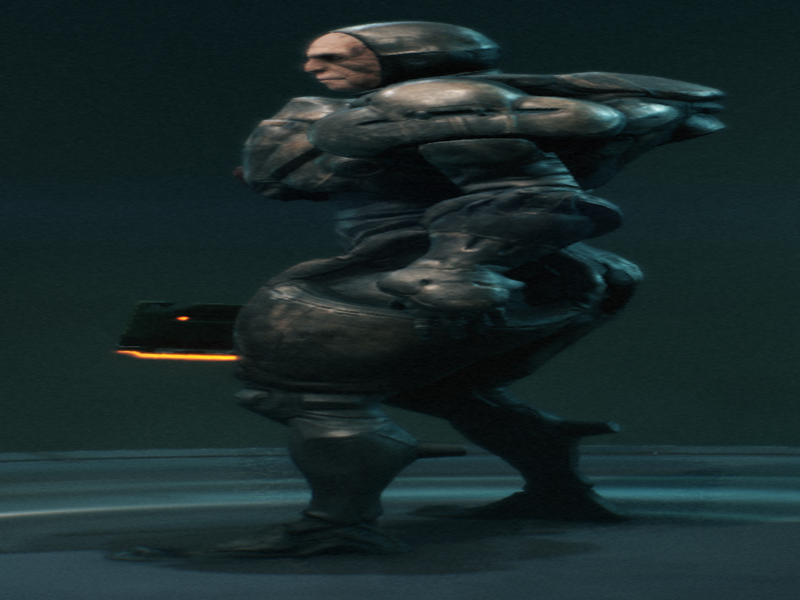grineer_butcher: (77, 7, 745, 569)
